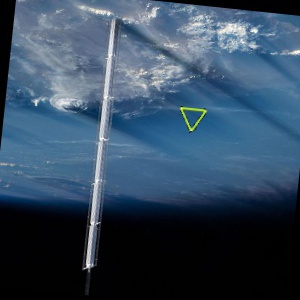triangle: (177, 104, 208, 134)
